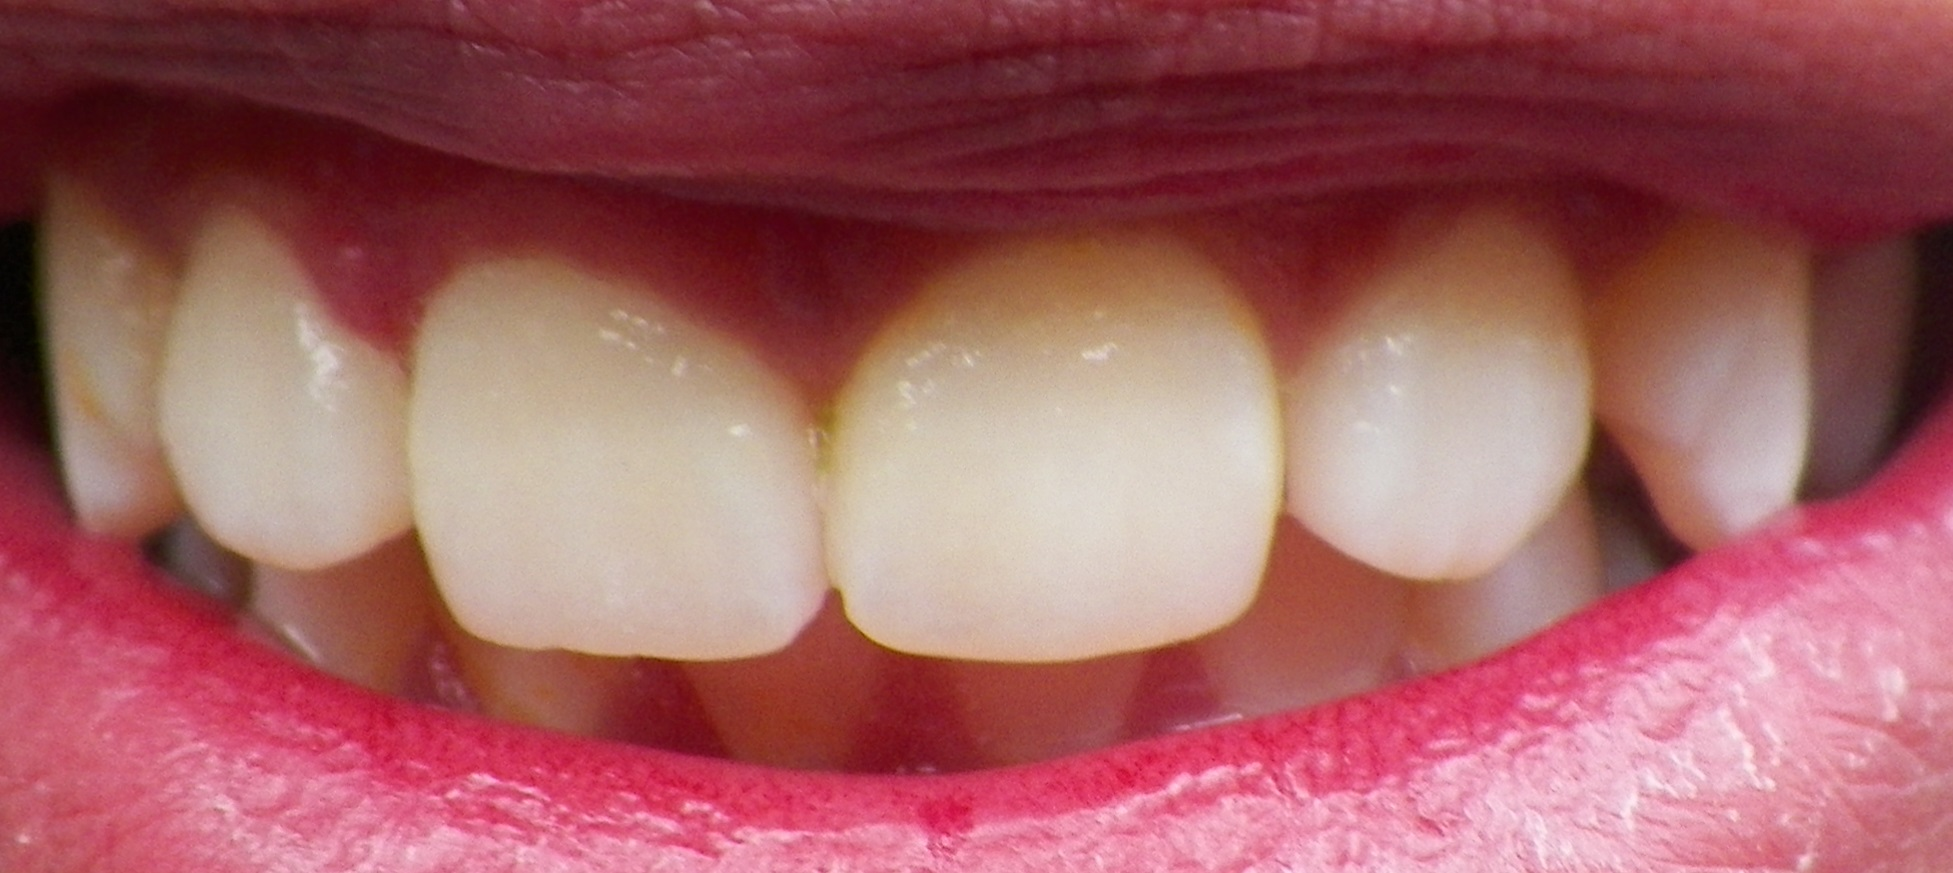boca: (9, 187, 1919, 785)
